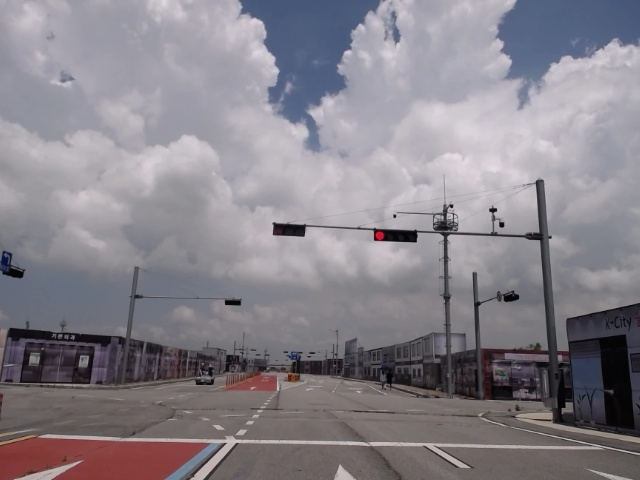red_4: (374, 230, 417, 242)
